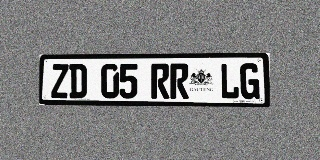0: (101, 64, 119, 98)
5: (119, 64, 138, 99)
D: (69, 64, 87, 98)
G: (240, 63, 260, 99)
L: (220, 63, 239, 99)
R: (170, 63, 189, 99), (151, 64, 169, 99)
Z: (51, 64, 69, 98)
